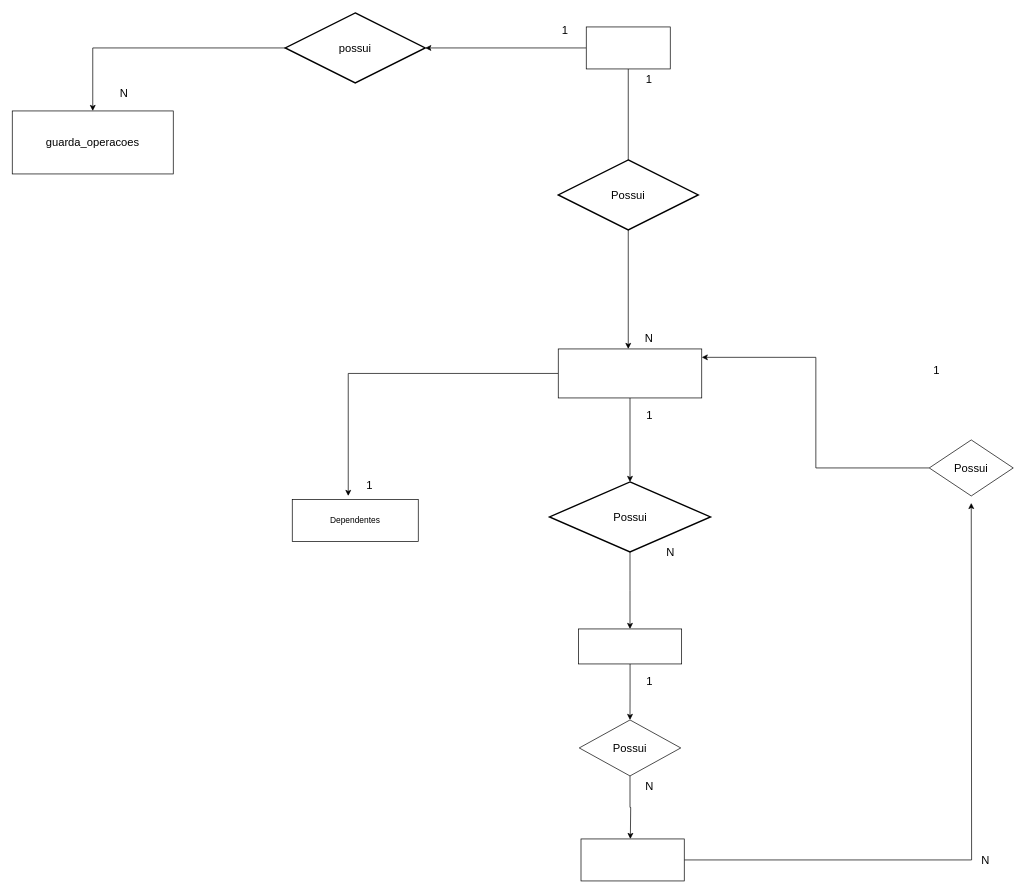
Image size: 1026x893. Some labels were removed from this diagram. The box of each missing label's shape, as (x1, y1, x2, y2) in pixels:
cargo: (578, 628, 682, 664)
empresa: (586, 26, 670, 69)
funcionario: (558, 348, 702, 398)
salario: (580, 838, 684, 881)
